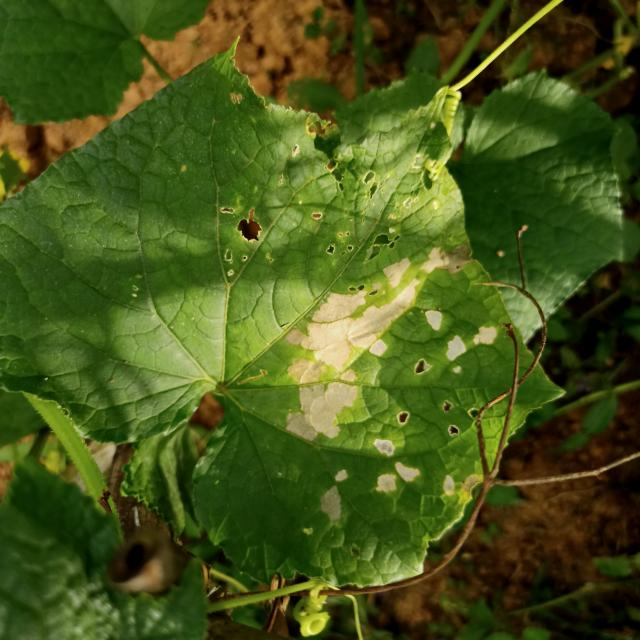disease_cucumber: (275, 242, 503, 534)
